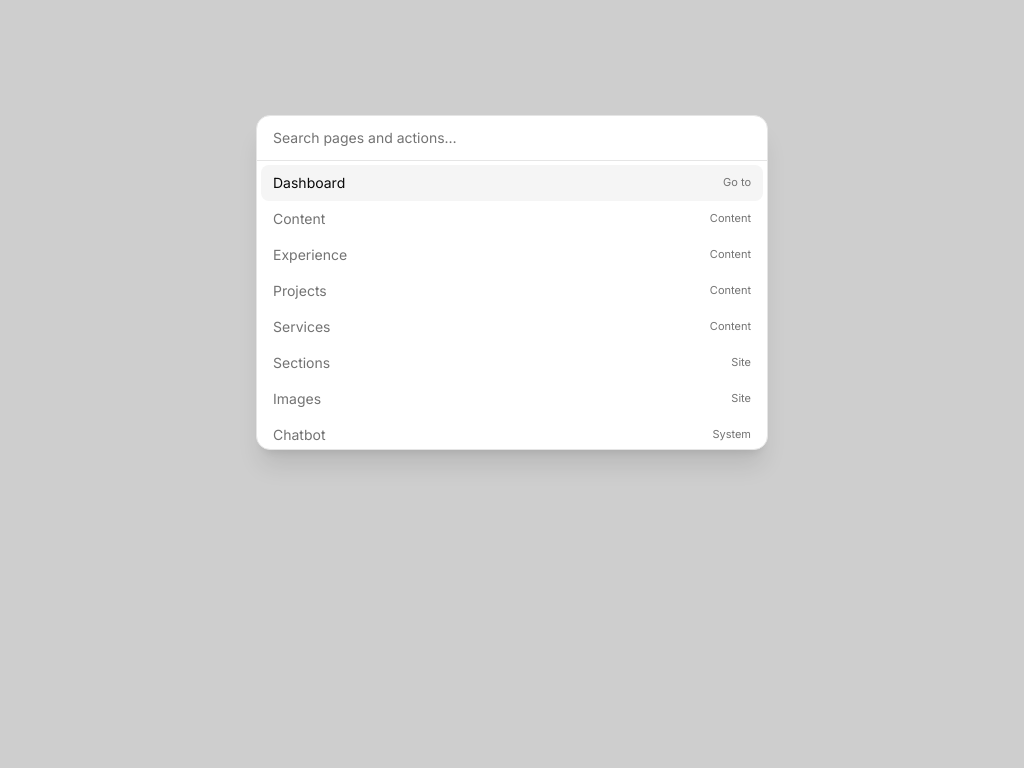
Test: CommandPalette › reports no matches rather than rendering an empty box
Type "zzzzzz" into the dropdown.
click(512, 139); type("zzzzzz")  # box left=257, top=116, right=767, bottom=161
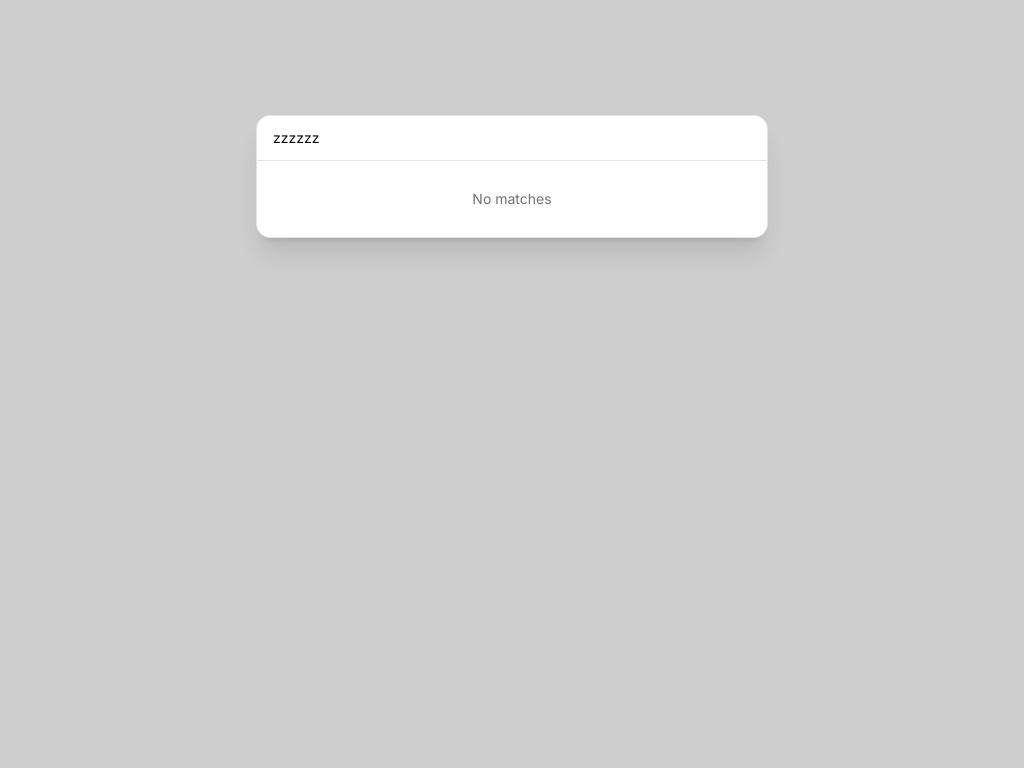
Check: the list item "No matches" is shown, box left=472, top=190, right=552, bottom=207
Check: no options are shown
